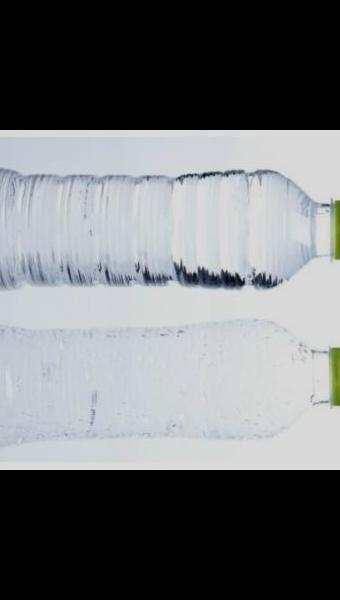bottle: (0, 168, 340, 295), (0, 322, 340, 441)
